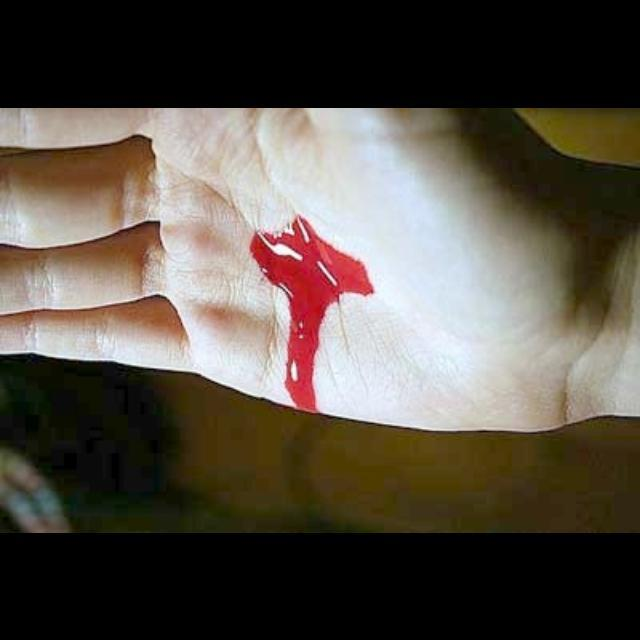blood: (248, 214, 373, 409)
